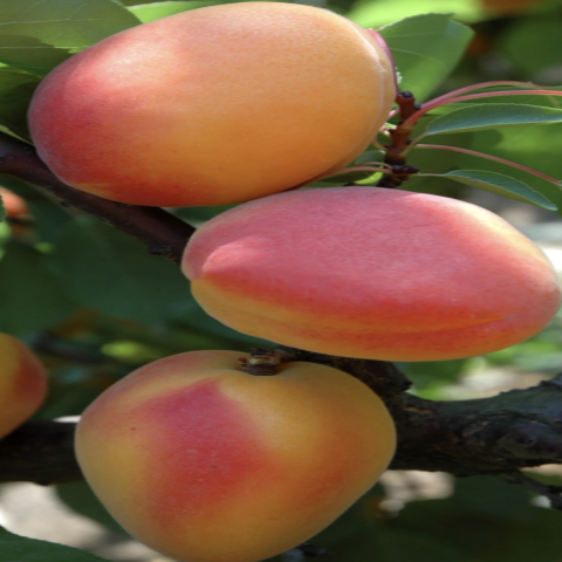mango: (5, 3, 420, 212), (49, 328, 422, 552), (177, 166, 562, 375)
